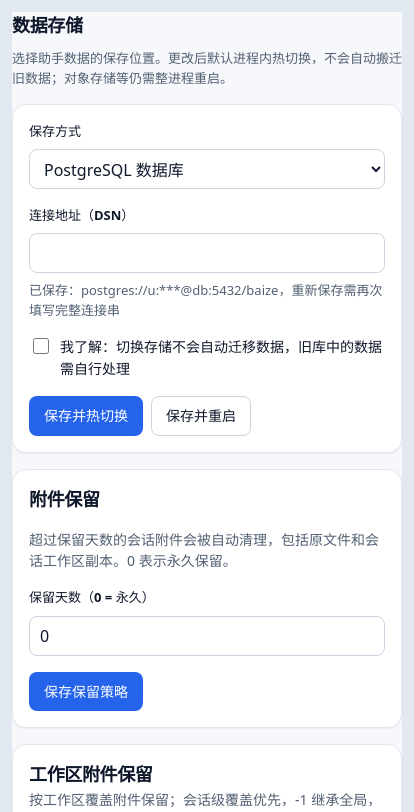
it: StorageSettings › requires DSN for postgres even when a DSN was previously saved
The image size is (414, 812).
Click the checkbox labelled "我了解：切换存储不会自动迁移数据，旧库中的数据需自行处理": (41, 346) [33,338,49,354]
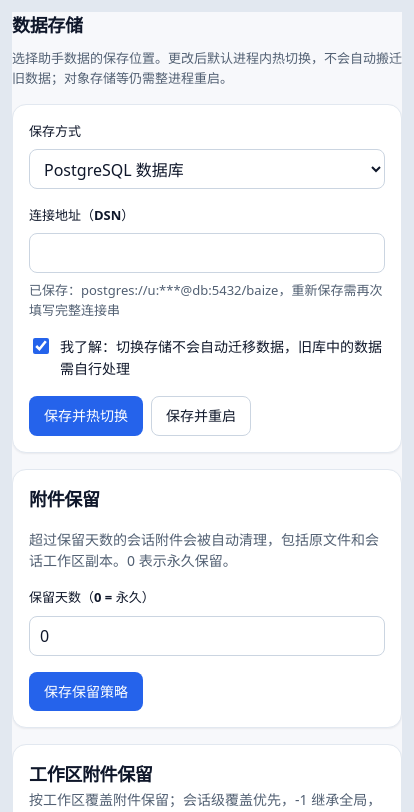
Click the button "保存并热切换": (86, 416) [29,396,143,436]
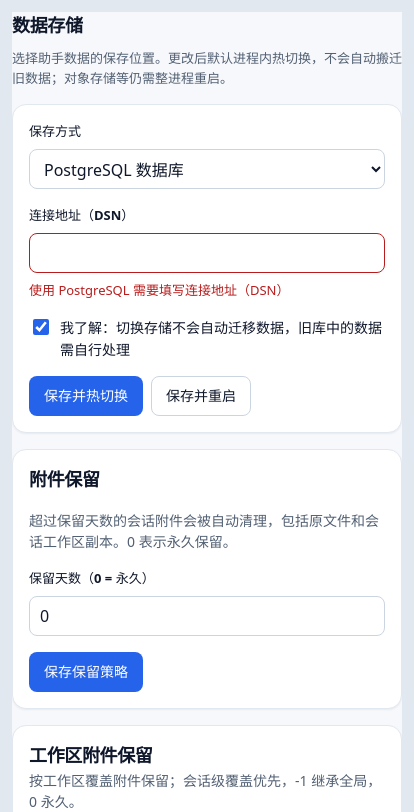
Now the text "使用 PostgreSQL 需要填写连接地址（DSN）" is shown, box [29,282,290,300]
